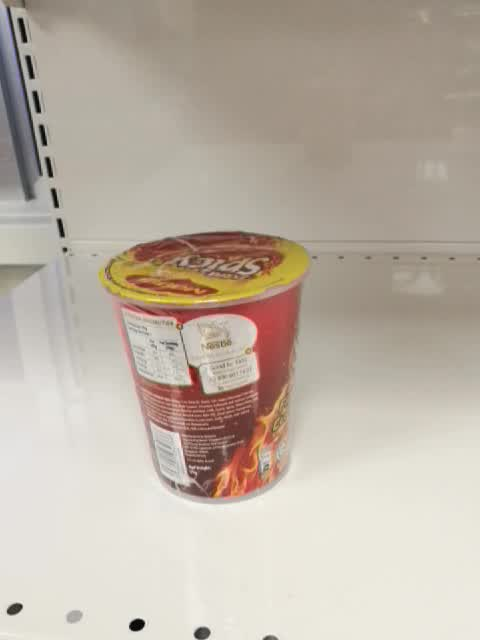maggi: (99, 230, 310, 506)
